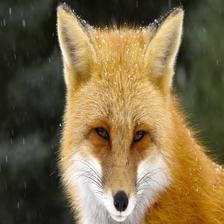fox: (45, 0, 224, 224)
